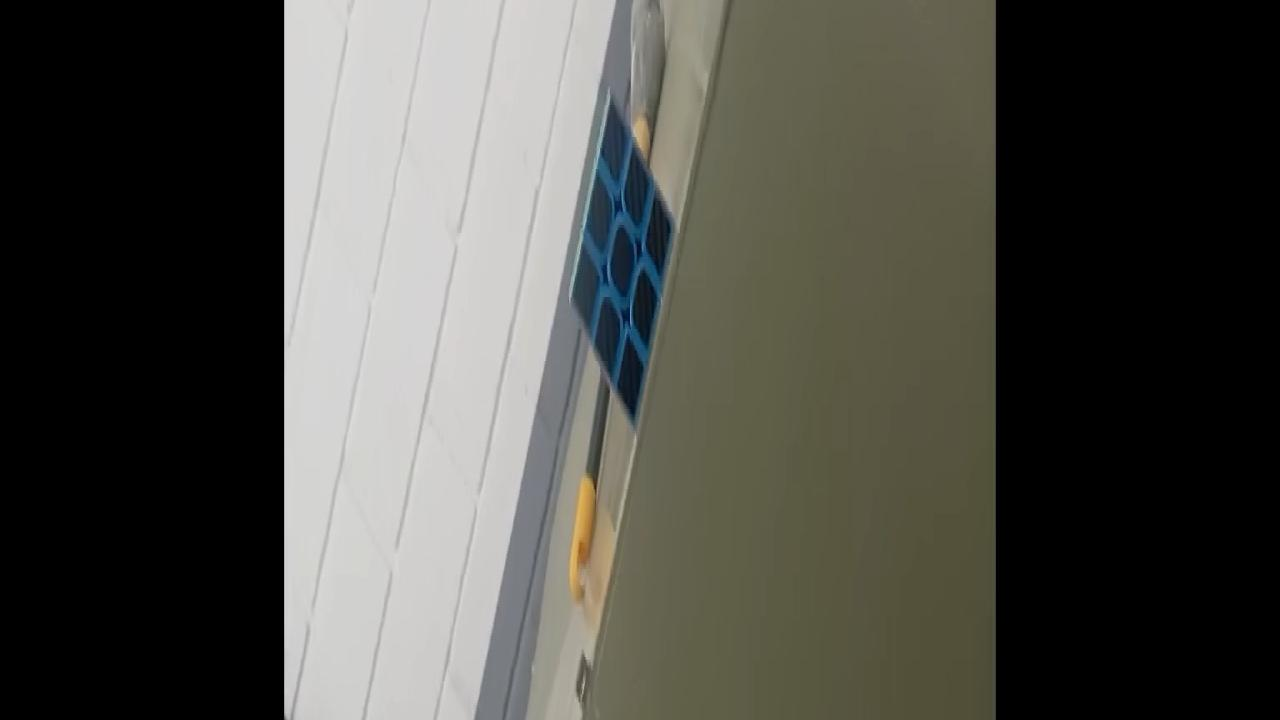Cube: (566, 88, 676, 434)
